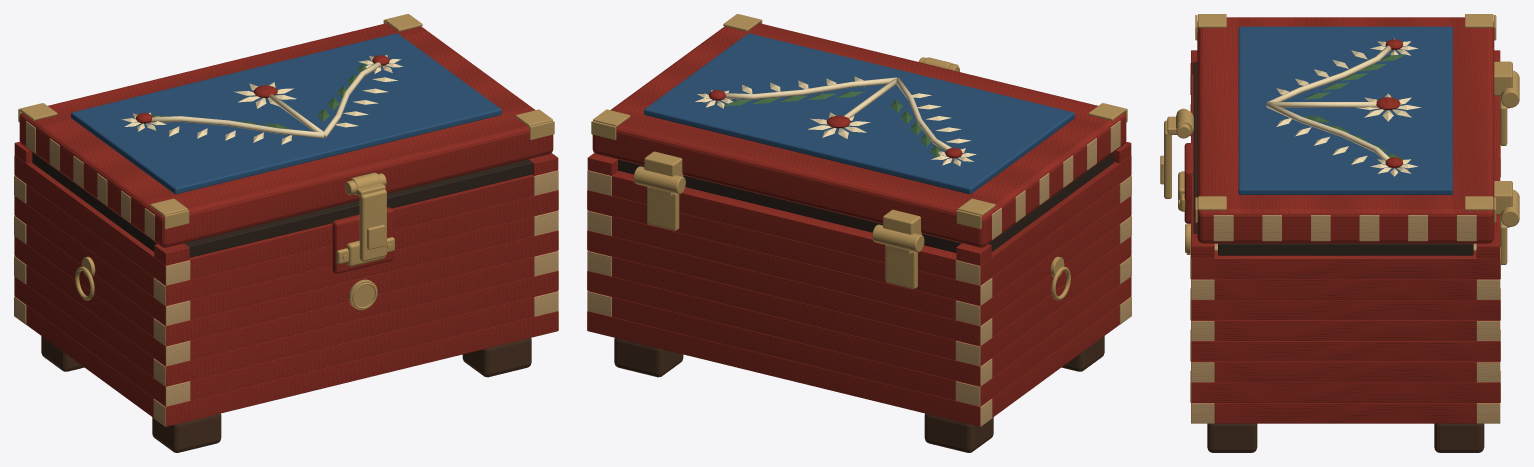
File: sweden.glb
The picture shows the model from 3 angles, left to right: view 1: azimuth 30°, elevation 25°; view 2: azimuth 150°, elevation 25°; view 3: azimuth 270°, elevation 25°; orthographic projection. The views are drawn at different scales.
Parts seen in each view (by area): view 1: Kurbits / blue inset, Lid / polished slab, Red wood / front course 0, Red wood / front course 2, Red wood / front course 4, Red wood / front course 1, Red wood / front course 6, Red wood / front course 3, Red wood / front course 5, Red wood / front course 7, Mineral seam / long, Red wood / side course 7 (+17 smaller); view 2: Kurbits / blue inset, Lid / polished slab, Red wood / rear course 0, Red wood / rear course 2, Red wood / rear course 4, Red wood / rear course 7, Red wood / rear course 3, Red wood / rear course 1, Red wood / rear course 5, Red wood / rear course 6, Red wood / side course 7, Red wood / side course 1 (+20 smaller); view 3: Kurbits / blue inset, Lid / polished slab, Red wood / side course 7.001, Red wood / side course 1.001, Red wood / side course 3.001, Red wood / side course 5.001, Red wood / side course 2.001, Red wood / side course 4.001, Red wood / side course 6.001, Red wood / side course 0.001, Mineral seam / side.001, Dark wood foot.002 (+32 smaller).
Boxes of the visible parts, <box> form: Kurbits / blue inset: <box>71,33,501,194</box>; Lid / polished slab: <box>19,23,553,247</box>; Red wood / front course 0: <box>154,311,558,426</box>; Red wood / front course 2: <box>154,271,558,386</box>; Red wood / front course 4: <box>154,230,558,345</box>; Red wood / front course 1: <box>190,297,533,400</box>; Red wood / front course 6: <box>154,190,558,305</box>; Red wood / front course 3: <box>190,256,533,360</box>; Red wood / front course 5: <box>190,216,533,319</box>; Red wood / front course 7: <box>189,174,533,279</box>; Mineral seam / long: <box>184,159,532,257</box>; Red wood / side course 7: <box>14,155,189,285</box>; Kurbits / blue inset: <box>644,33,1074,194</box>; Lid / polished slab: <box>592,23,1126,247</box>; Red wood / rear course 0: <box>587,311,991,426</box>; Red wood / rear course 2: <box>587,271,991,386</box>; Red wood / rear course 4: <box>587,230,991,345</box>; Red wood / rear course 7: <box>612,171,956,279</box>; Red wood / rear course 3: <box>612,256,955,360</box>; Red wood / rear course 1: <box>612,297,955,400</box>; Red wood / rear course 5: <box>612,216,955,319</box>; Red wood / rear course 6: <box>587,190,991,305</box>; Red wood / side course 7: <box>956,155,1131,285</box>; Red wood / side course 1: <box>956,276,1131,406</box>; Kurbits / blue inset: <box>1238,26,1452,194</box>; Lid / polished slab: <box>1197,17,1494,243</box>; Red wood / side course 7.001: <box>1191,250,1500,279</box>; Red wood / side course 1.001: <box>1191,382,1500,402</box>; Red wood / side course 3.001: <box>1191,341,1500,361</box>; Red wood / side course 5.001: <box>1191,299,1500,320</box>; Red wood / side course 2.001: <box>1214,361,1476,382</box>; Red wood / side course 4.001: <box>1214,320,1476,340</box>; Red wood / side course 6.001: <box>1214,279,1476,299</box>; Red wood / side course 0.001: <box>1214,403,1476,423</box>; Mineral seam / side.001: <box>1218,243,1473,255</box>; Dark wood foot.002: <box>1207,423,1257,452</box>.
Bounding box in the file's own units: 3.79 × 2.35 × 2.88.
Materials: 9 (3 with a texture image).
